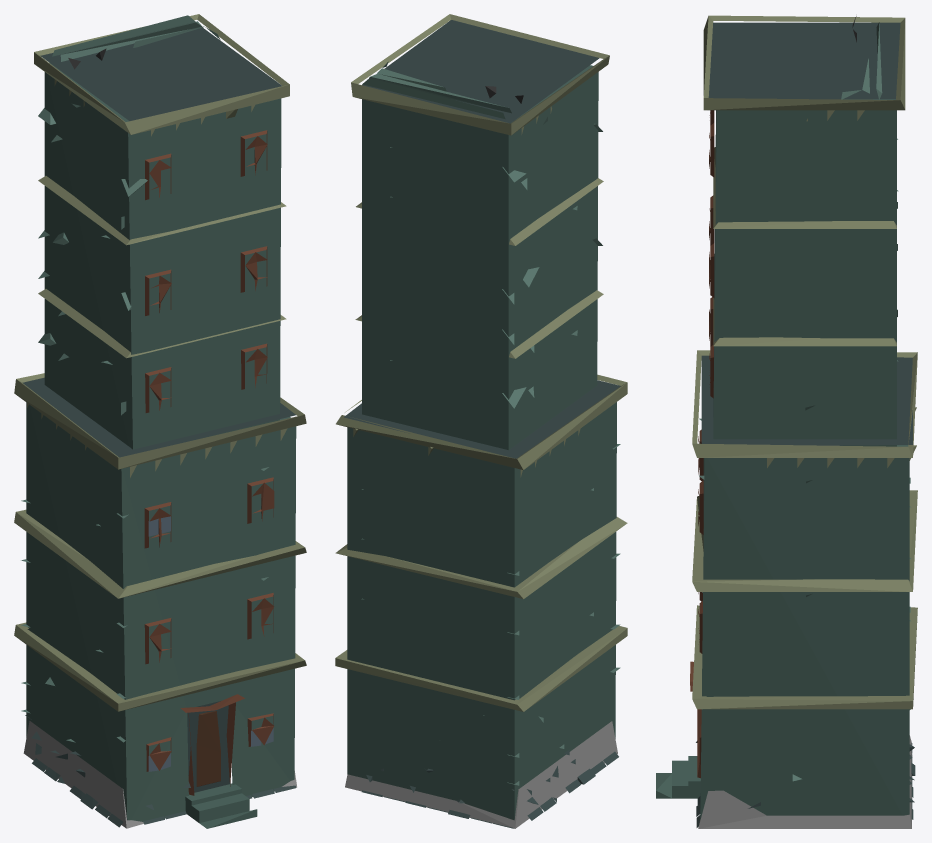
File: 6Story_Stack_lod.glb
3 views of the same model, side by side, from view 1: azimuth 30°, elevation 25°; view 2: azimuth 150°, elevation 25°; view 3: azimuth 270°, elevation 25° (orthographic). The views are drawn at different scales.
Visible parts, largest first — view 1: 6Story_Stack_Mat; view 2: 6Story_Stack_Mat; view 3: 6Story_Stack_Mat.
Boxes of the visible parts, x1=… form: 6Story_Stack_Mat: x1=14, y1=14, x2=306, y2=828; 6Story_Stack_Mat: x1=335, y1=14, x2=627, y2=828; 6Story_Stack_Mat: x1=656, y1=15, x2=917, y2=828.
Bounding box in the file's own units: 2.16 × 7.77 × 2.5.
